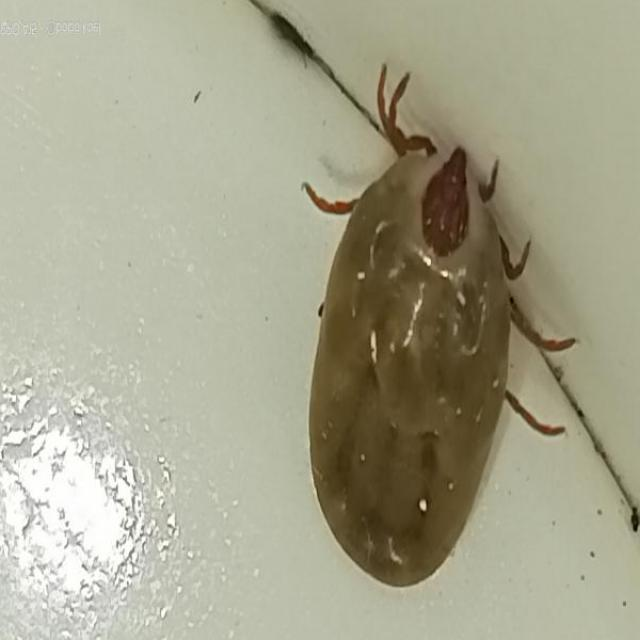Rhipicephalus Sanguineus-F-Fed: (306, 62, 575, 587)
